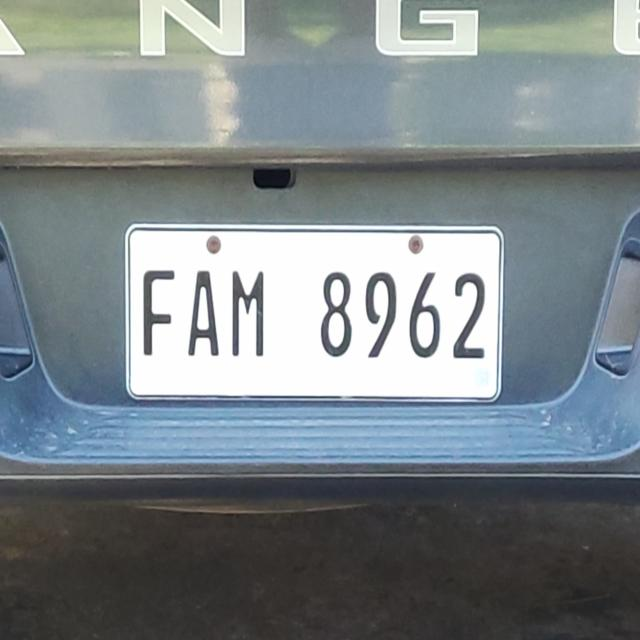plate: (113, 212, 513, 417)
